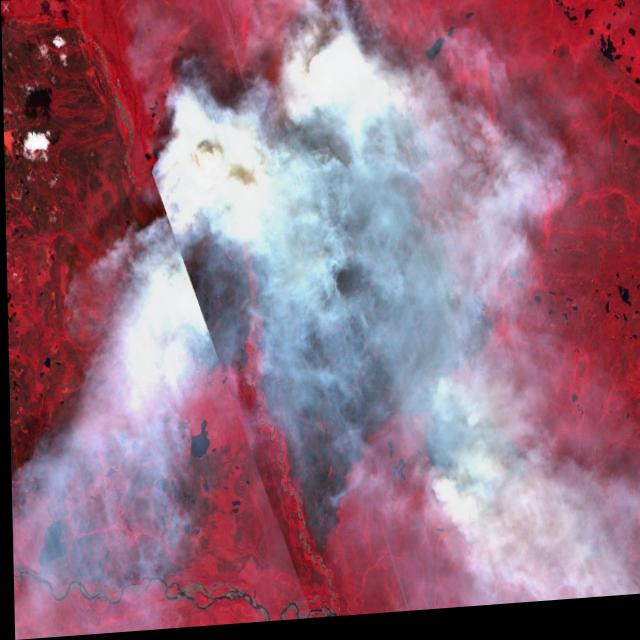fire: (158, 55, 441, 245), (412, 369, 537, 525)
